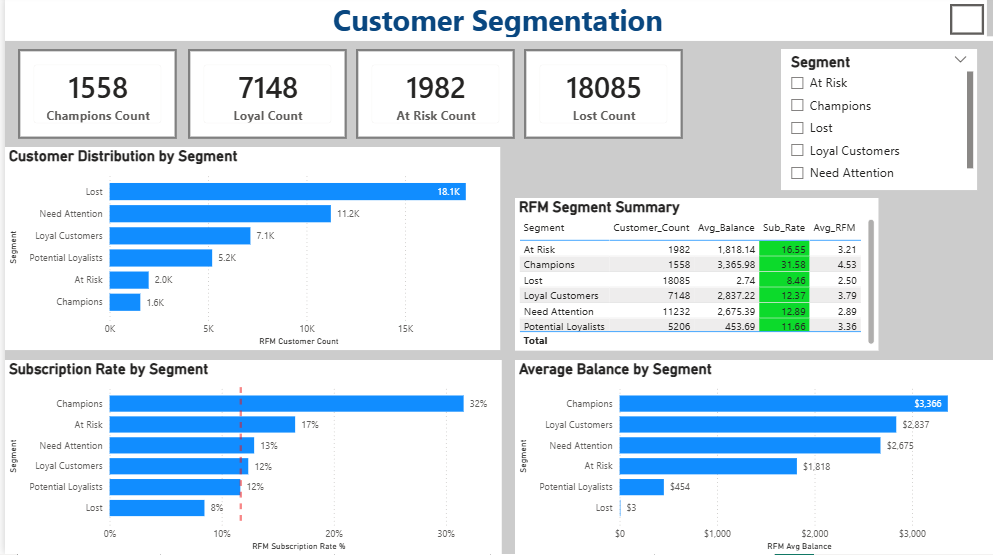

The page's visual inventory and layout, read from the dashboard file:
{"tool":"powerbi","page":{"name":"Customer Segmentation","canvas":[1280,720],"ordinal":1},"visuals":[{"type":"textbox","box":[0,0,1279.8,58.1],"z":0},{"type":"cardVisual","fields":{"Data":["_Measures.Champions Count"]},"box":[16.8,68.4,205.2,116.1],"z":1000},{"type":"cardVisual","fields":{"Data":["_Measures.Loyal Count"]},"box":[236.1,68.4,205.2,116.1],"z":2000},{"type":"cardVisual","fields":{"Data":["_Measures.At Risk Count"]},"box":[452.9,68.4,205.2,116.1],"z":3000},{"type":"cardVisual","fields":{"Data":["_Measures.Lost Count"]},"box":[669.7,68.4,205.2,116.1],"z":4000},{"type":"clusteredBarChart","title":"Customer Distribution by Segment","fields":{"Category":["rfm_segments.Segment"],"Y":["_Measures.RFM Customer Count"]},"box":[0,195.4,638.6,261.5],"z":5000},{"type":"clusteredBarChart","title":"Subscription Rate by Segment","fields":{"Category":["rfm_segments.Segment"],"Y":["_Measures.RFM Subscription Rate %"]},"box":[0,469.1,640.6,250.9],"z":6000},{"type":"clusteredBarChart","title":"Average Balance by Segment","fields":{"Category":["rfm_segments.Segment"],"Y":["_Measures.RFM Avg Balance"]},"box":[657.6,469.1,622.2,250.9],"z":7000},{"type":"tableEx","title":"RFM Segment Summary","fields":{"Values":["rfm_summary.Segment","rfm_summary.Customer_Count","rfm_summary.Avg_Balance","rfm_summary.Sub_Rate","rfm_summary.Avg_RFM"]},"box":[657.6,260.8,469.1,197],"z":8000},{"type":"slicer","fields":{"Values":["rfm_segments.Segment"]},"box":[1001.3,68.4,252.9,181.9],"z":9000},{"type":"actionButton","box":[1218.9,9.9,43.9,39.7],"z":9001}]}

Visuals, with their boxes in screenshot pixels (x1, y1, x2, y2), scaled from the page's 1280x720 canvas onto the 993x555 screenshot:
textbox: rect(0, 0, 992, 45)
cardVisual - _Measures.Champions Count: rect(13, 53, 172, 142)
cardVisual - _Measures.Loyal Count: rect(183, 53, 342, 142)
cardVisual - _Measures.At Risk Count: rect(351, 53, 511, 142)
cardVisual - _Measures.Lost Count: rect(520, 53, 679, 142)
"Customer Distribution by Segment" clusteredBarChart: rect(0, 151, 495, 352)
"Subscription Rate by Segment" clusteredBarChart: rect(0, 362, 497, 554)
"Average Balance by Segment" clusteredBarChart: rect(510, 362, 992, 554)
"RFM Segment Summary" tableEx: rect(510, 201, 874, 353)
slicer - rfm_segments.Segment: rect(777, 53, 973, 193)
actionButton: rect(946, 8, 980, 38)
